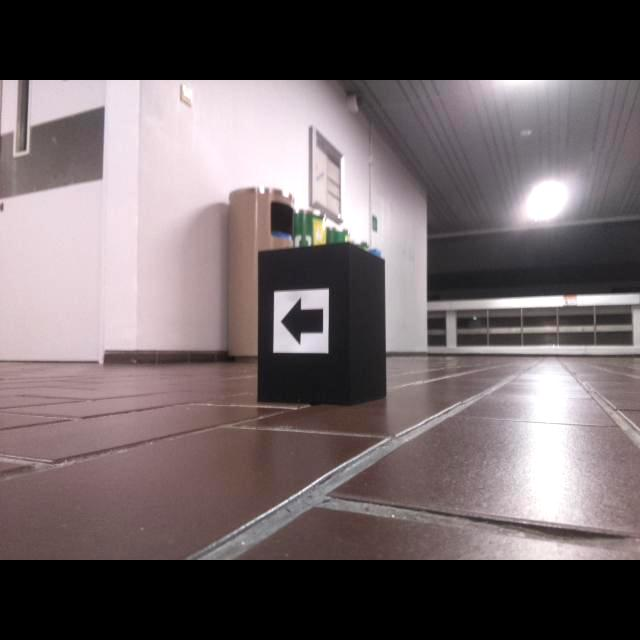LEFT: (280, 295, 323, 346)
